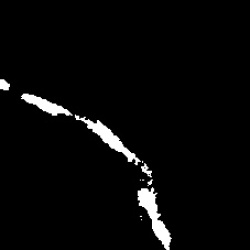crack: (76, 115, 171, 243), (21, 93, 70, 117), (2, 80, 13, 90)
